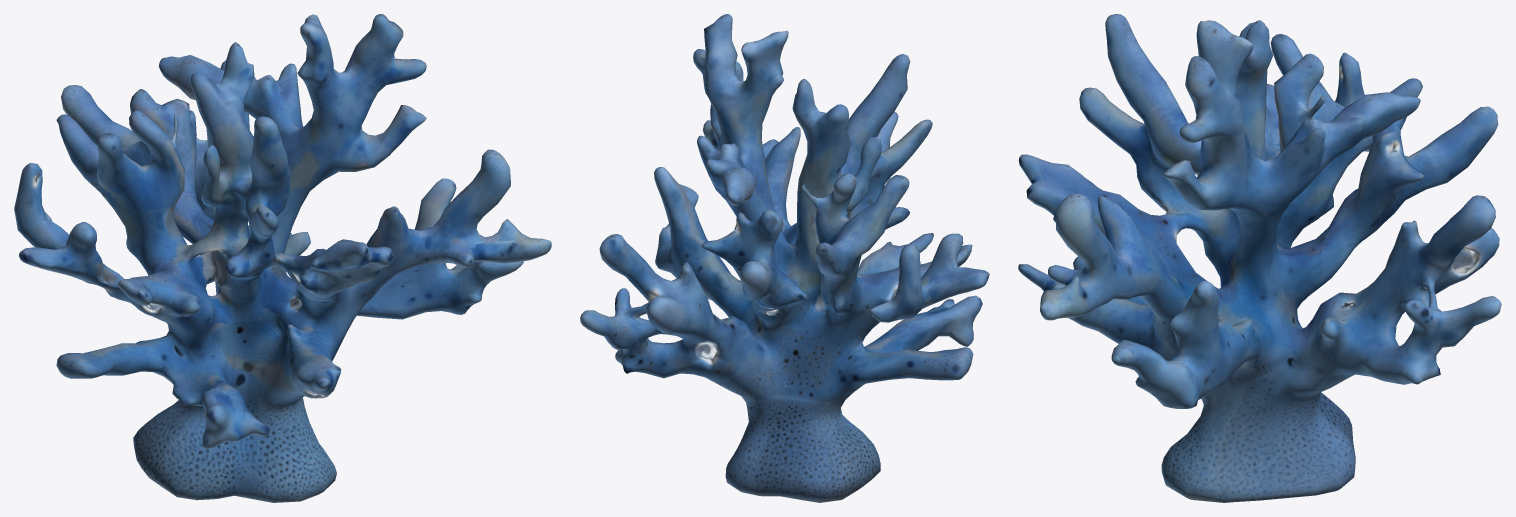
The model's file is Meshy_AI_Azure_Coral_Branches_0607064755_texture.glb.
3 views of the same model, side by side, from view 1: azimuth 30°, elevation 25°; view 2: azimuth 150°, elevation 25°; view 3: azimuth 270°, elevation 25° (orthographic). The views are drawn at different scales.
Bounding box in the file's own units: 1.95 × 2 × 1.84.
1 material, 1 textured.
